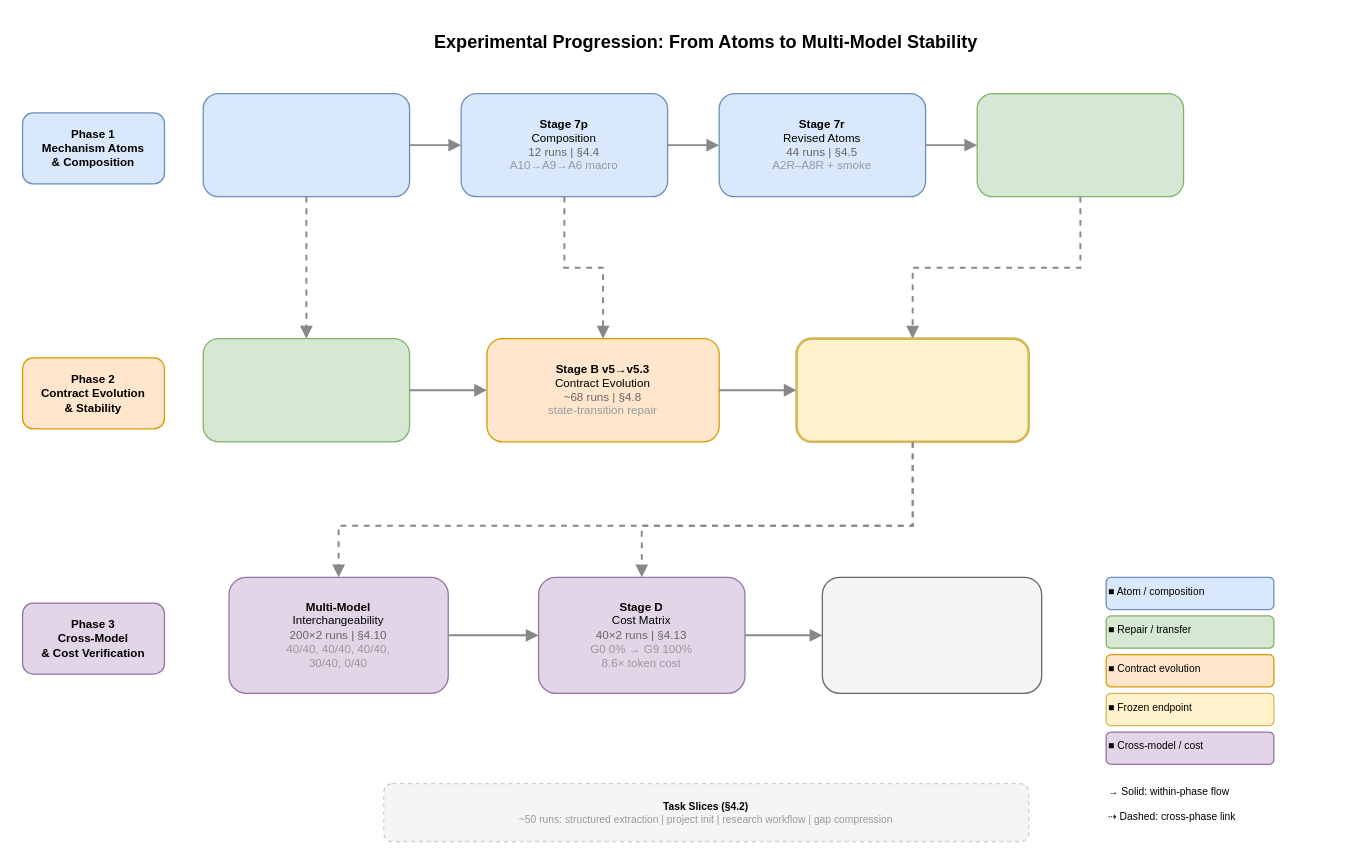
Image size: 1361x864. Some labels were removed from this diagram. Here are the shapes that lost their labels. From the top down, the box of each, then its label:
(202, 92, 410, 197): Stage 6 Mechanism Atoms 48 runs | §4.3 A1–A10, G0/G2/G8/G9
(976, 92, 1184, 197): Stage 7e Repair Loop 18 runs | §4.6 v1→v4 iterations
(202, 337, 410, 442): Stage 7-next Neighbor Transfer 4 runs | §4.7 method-plan macro
(795, 337, 1029, 442): Stage B v5.4 Frozen Stability 40×3 runs | §4.8 40/40, Wilson [.912, 1.0]
(821, 576, 1042, 693): Reproducibility 4 Rounds × 1458 calls Appendix F v5.4 sim=1.0 (pf)
